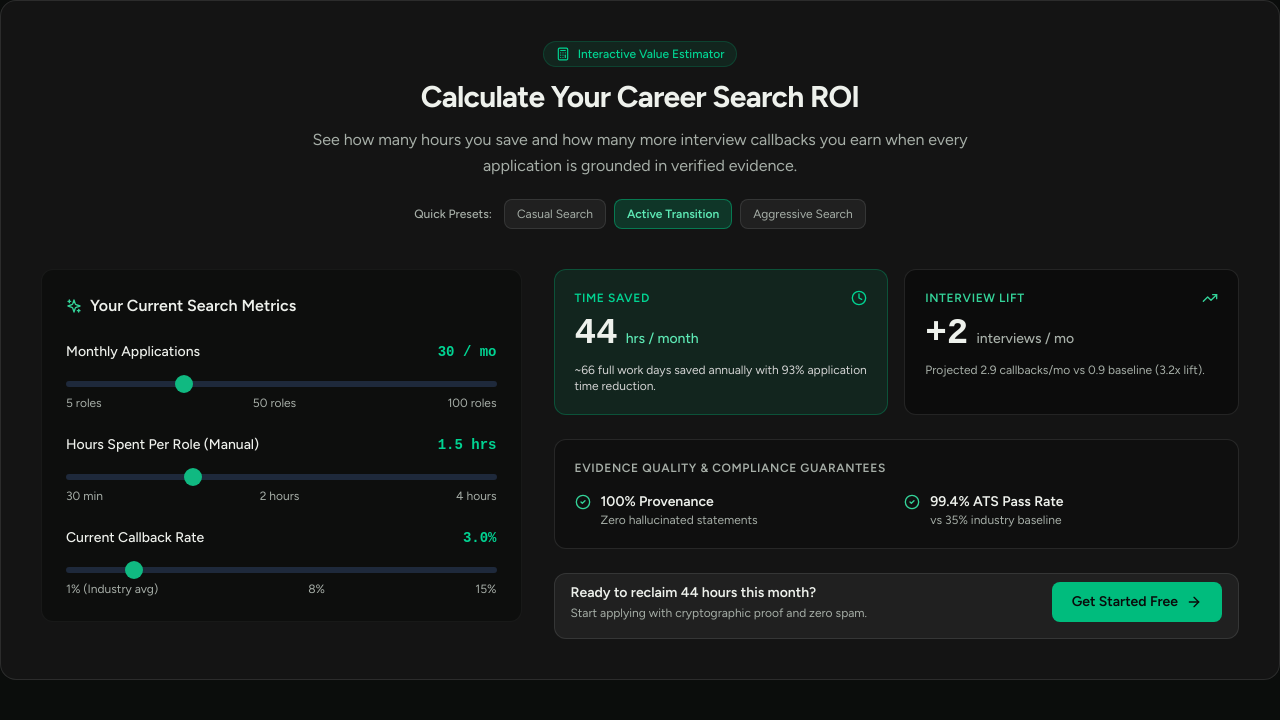
Test: RoiCalculator Component (T-71, FR-CRO-03) › updates calculations when sliders change
The width and height of the screenshot is (1280, 720).
Set the slider labelled "Monthly Applications" to "60" at coordinates (314, 384), box [66,381,496,387]
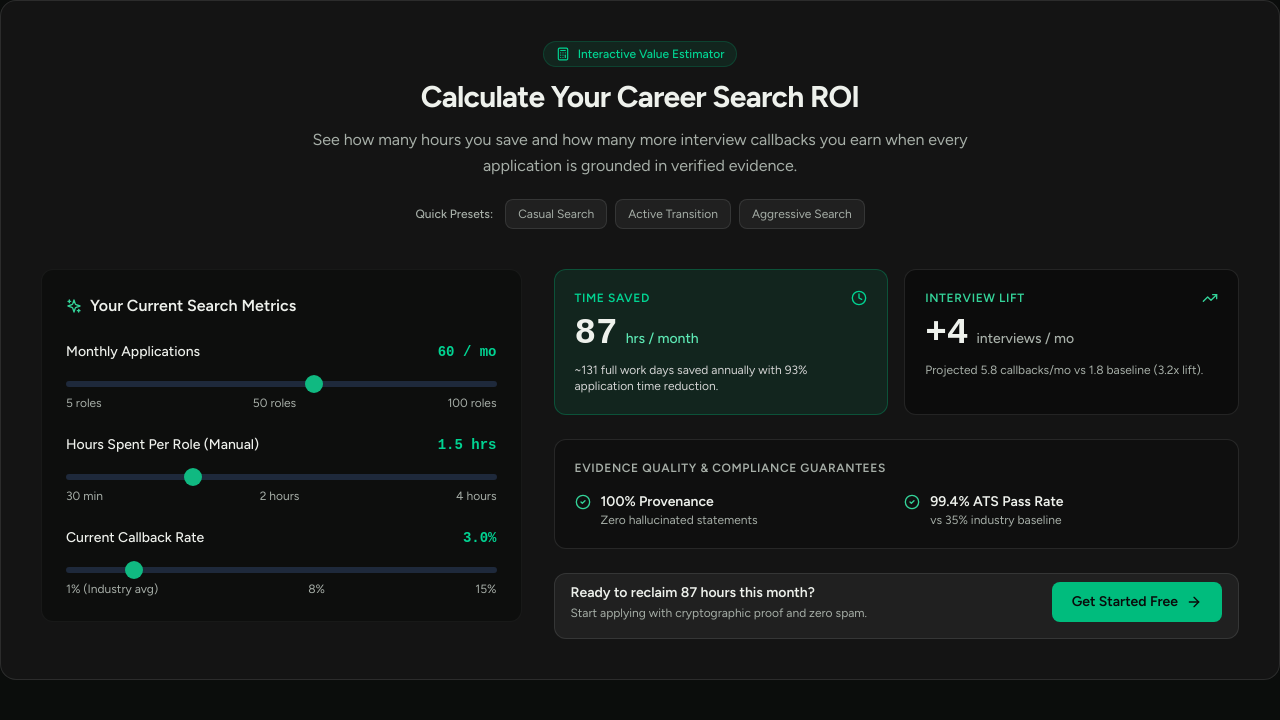
Check: the text "60 / mo" is shown, box [438,342,496,362]
Check: the text "87" is shown, box [574,314,618,354]
